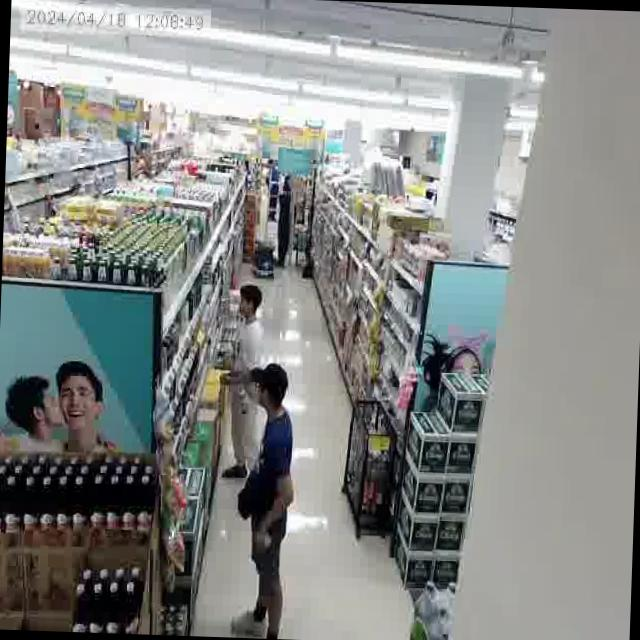shoplifting: (222, 355, 306, 639)
